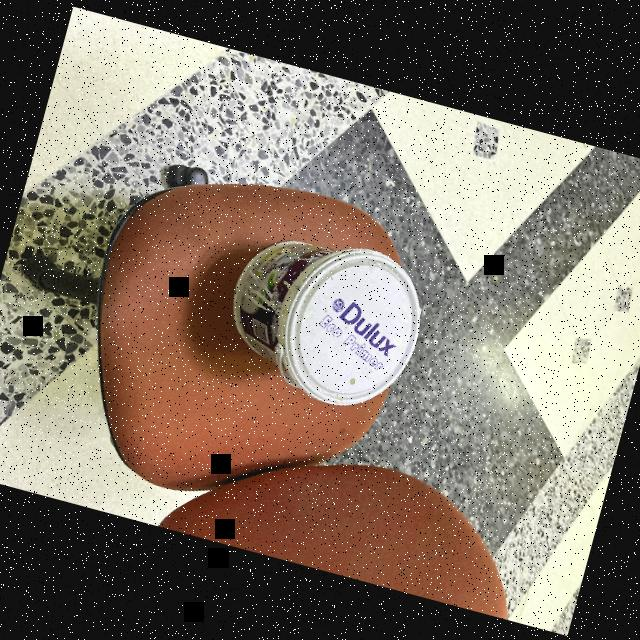paint_bucket: (202, 211, 439, 419)
